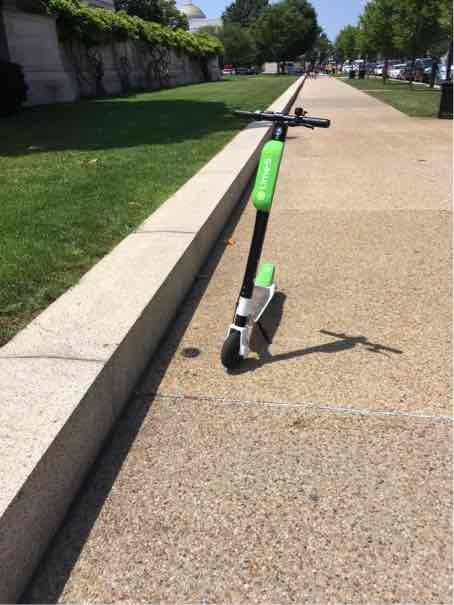scooter: (213, 97, 332, 381)
